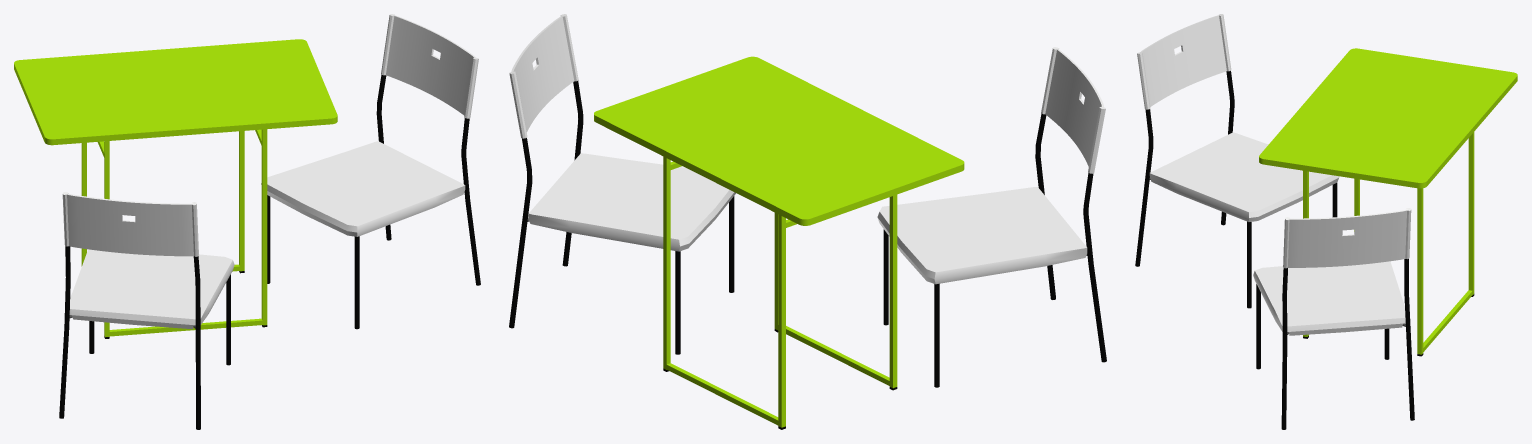
Rendered from IKEA-Muddus_Table-3D.obj.
3 views of the same model, side by side, from view 1: azimuth 30°, elevation 25°; view 2: azimuth 150°, elevation 25°; view 3: azimuth 270°, elevation 25° (orthographic). The views are drawn at different scales.
Visible parts, largest first — view 1: Rectangle01, Box04, Box03; view 2: Rectangle01, Box04, Box03; view 3: Rectangle01, Box03, Box04.
Part boxes in pixels (x1,y1,x2,y2): Rectangle01: [14, 39, 337, 338]; Box04: [59, 192, 234, 429]; Box03: [261, 14, 480, 329]; Rectangle01: [594, 56, 964, 429]; Box04: [877, 47, 1106, 387]; Box03: [509, 14, 735, 354]; Rectangle01: [1259, 48, 1517, 356]; Box03: [1253, 208, 1414, 429]; Box04: [1135, 14, 1339, 308].
Bounding box in the file's own units: 163 × 77.9 × 127.
